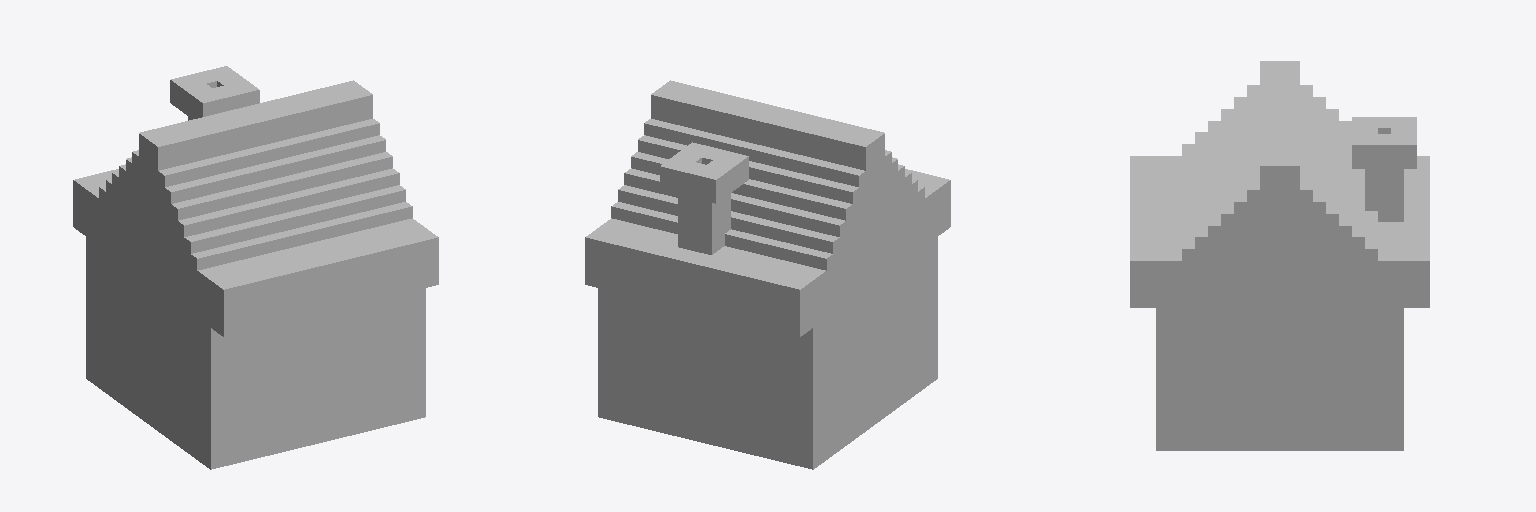
The model's file is house.obj.
3 views of the same model, side by side, from view 1: azimuth 30°, elevation 25°; view 2: azimuth 150°, elevation 25°; view 3: azimuth 270°, elevation 25° (orthographic).
Visible parts, largest first — view 1: house; view 2: house; view 3: house.
Part boxes in pixels (x1,y1,x2,y2): house: (73, 66, 438, 469); house: (585, 80, 950, 469); house: (1130, 61, 1429, 450).
Bounding box in the file's own units: 19 × 24 × 23.